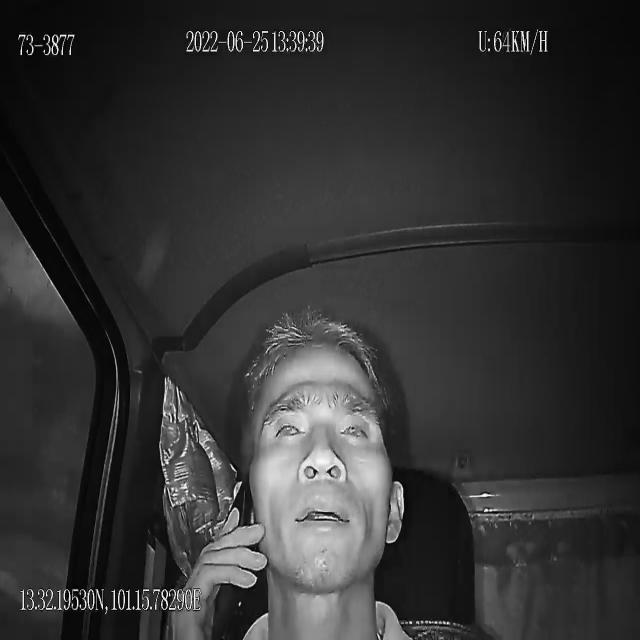phone: (211, 471, 254, 640)
